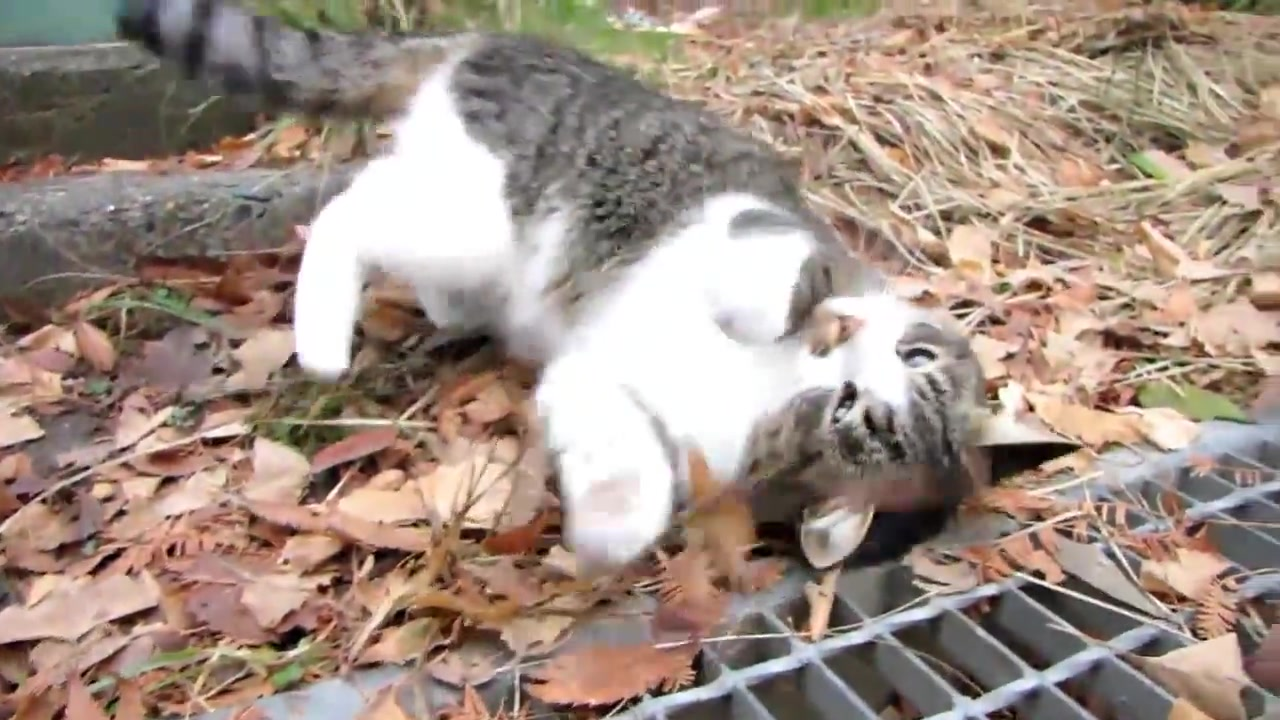cat: (127, 7, 1072, 604)
